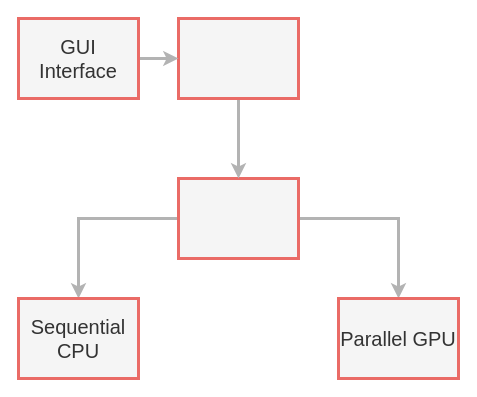
Image size: 477x397. Some labels were removed from this diagram. The shapes that lost their labels are listed below. From the top down, each one's box as (x1, y1, x2, y2) in pixels, then its label:
(176, 16, 300, 100): Command Line
(176, 176, 300, 260): Program
